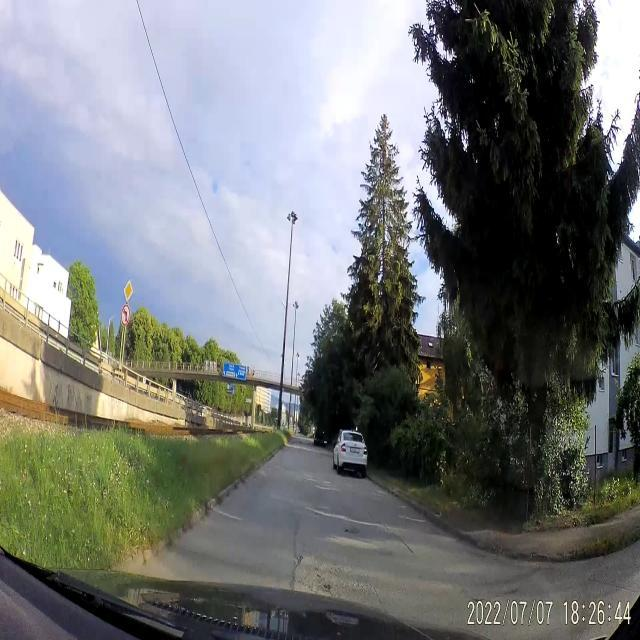Pothole: (294, 558, 332, 590), (341, 521, 369, 544)
